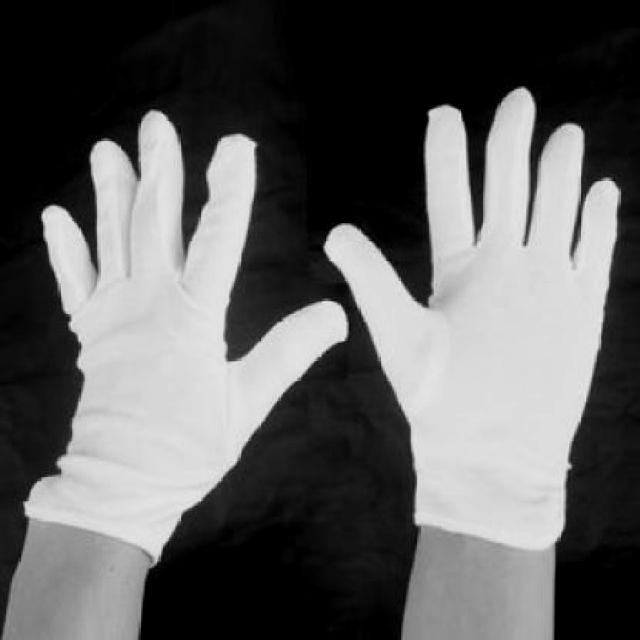hand_glove: (35, 108, 347, 494), (320, 88, 622, 481)
